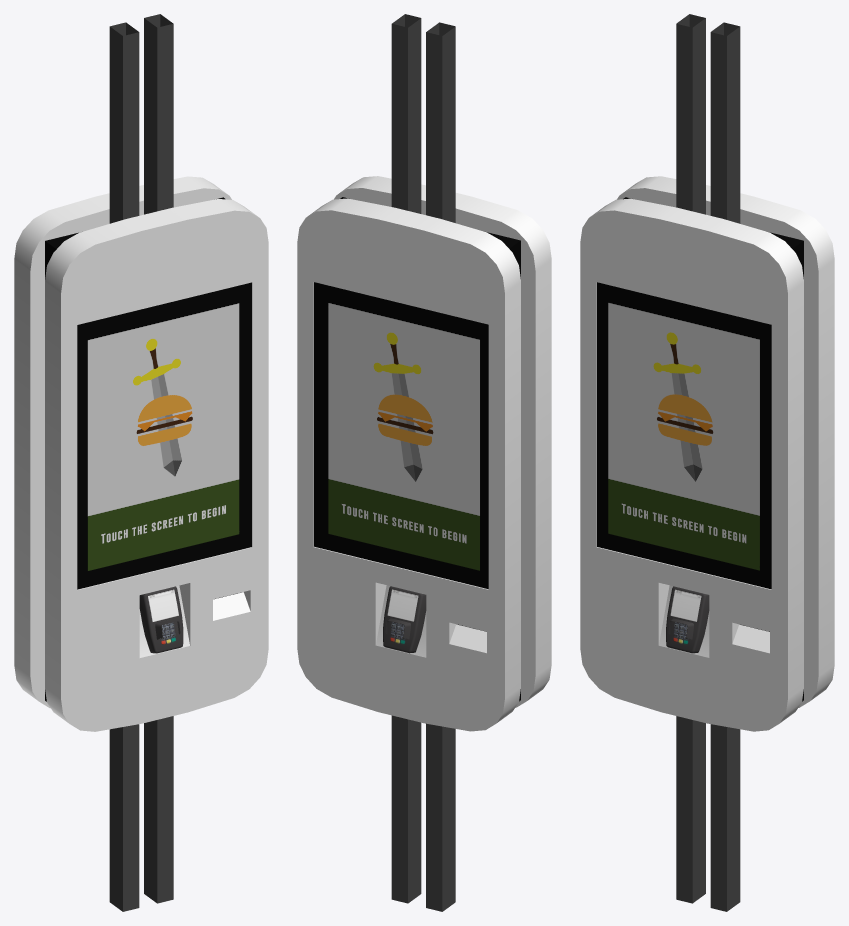
File: order_terminal02.fbx
The picture shows the model from 3 angles, left to right: view 1: azimuth 30°, elevation 25°; view 2: azimuth 150°, elevation 25°; view 3: azimuth 330°, elevation 25°; orthographic projection.
Visible parts, largest first — view 1: order_terminal02; view 2: order_terminal02; view 3: order_terminal02.
Part boxes in pixels (bbox=[...]): order_terminal02: bbox=[14, 14, 268, 911]; order_terminal02: bbox=[297, 14, 551, 911]; order_terminal02: bbox=[580, 14, 834, 911].
Bounding box in the file's own units: 68.53 × 276 × 34.35.
